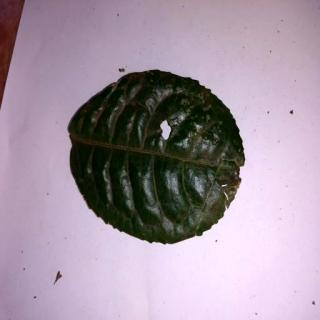Anthracnose: (66, 69, 248, 249)
